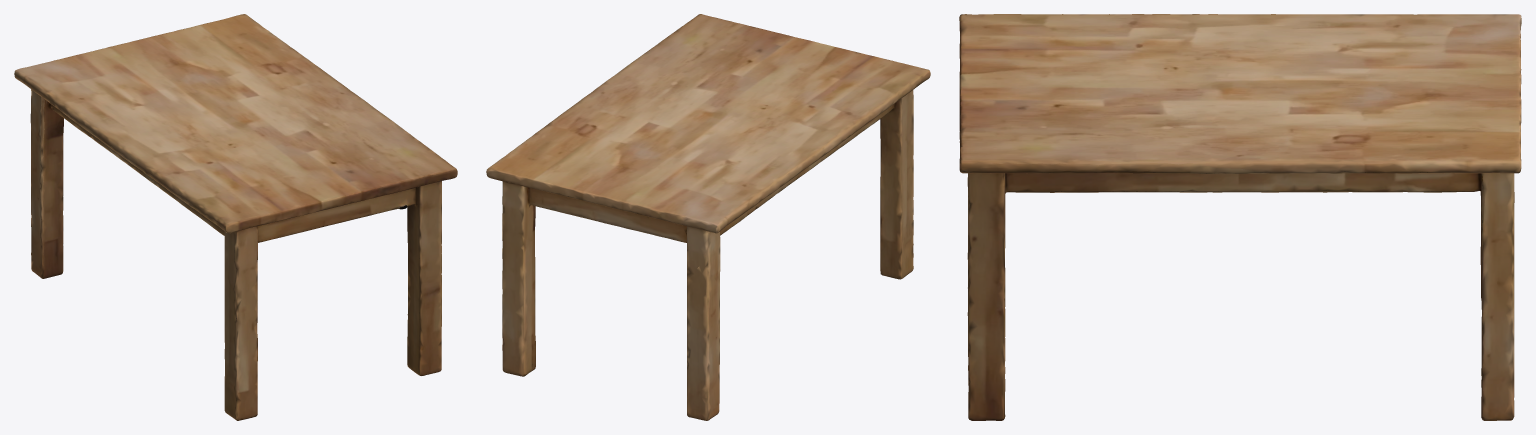
3 renders of one model, left to right at view 1: azimuth 30°, elevation 25°; view 2: azimuth 150°, elevation 25°; view 3: azimuth 270°, elevation 25°, orthographic. The views are drawn at different scales.
Parts seen in each view (by area): view 1: Mesh_0; view 2: Mesh_0; view 3: Mesh_0.
Boxes of the visible parts, left/top/right/bottom form: Mesh_0: left=14, top=14, right=457, bottom=420; Mesh_0: left=486, top=14, right=930, bottom=420; Mesh_0: left=959, top=14, right=1521, bottom=420.
Size of the model in its own units: 0.8641 by 0.72 by 1.36.
Materials: 1 (1 with a texture image).
